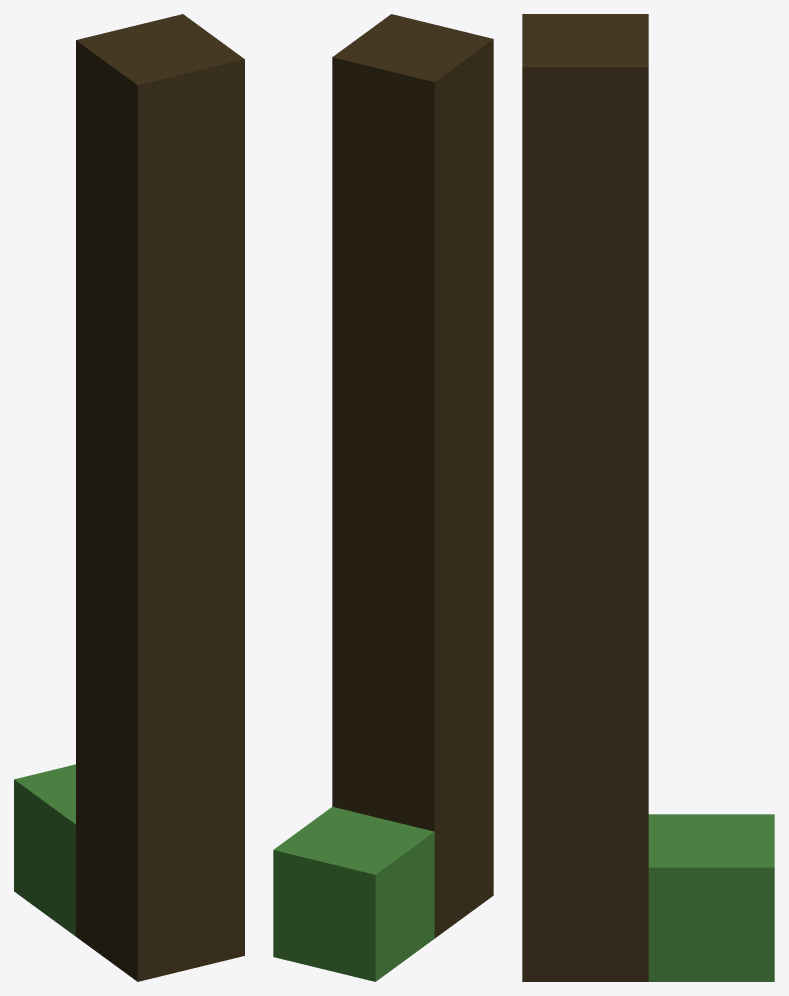
The model's file is farm-8-tomato_growth0.obj.
3 views of the same model, side by side, from view 1: azimuth 30°, elevation 25°; view 2: azimuth 150°, elevation 25°; view 3: azimuth 270°, elevation 25° (orthographic). The views are drawn at different scales.
Parts seen in each view (by area): view 1: tomato_growth0; view 2: tomato_growth0; view 3: tomato_growth0.
Boxes of the visible parts, box(x1,y1,x2,y2) form: tomato_growth0: box(14, 14, 244, 981); tomato_growth0: box(273, 14, 493, 981); tomato_growth0: box(522, 14, 774, 981).
Size of the model in its own units: 0.1 by 0.8 by 0.2.
1 material, 1 textured.
